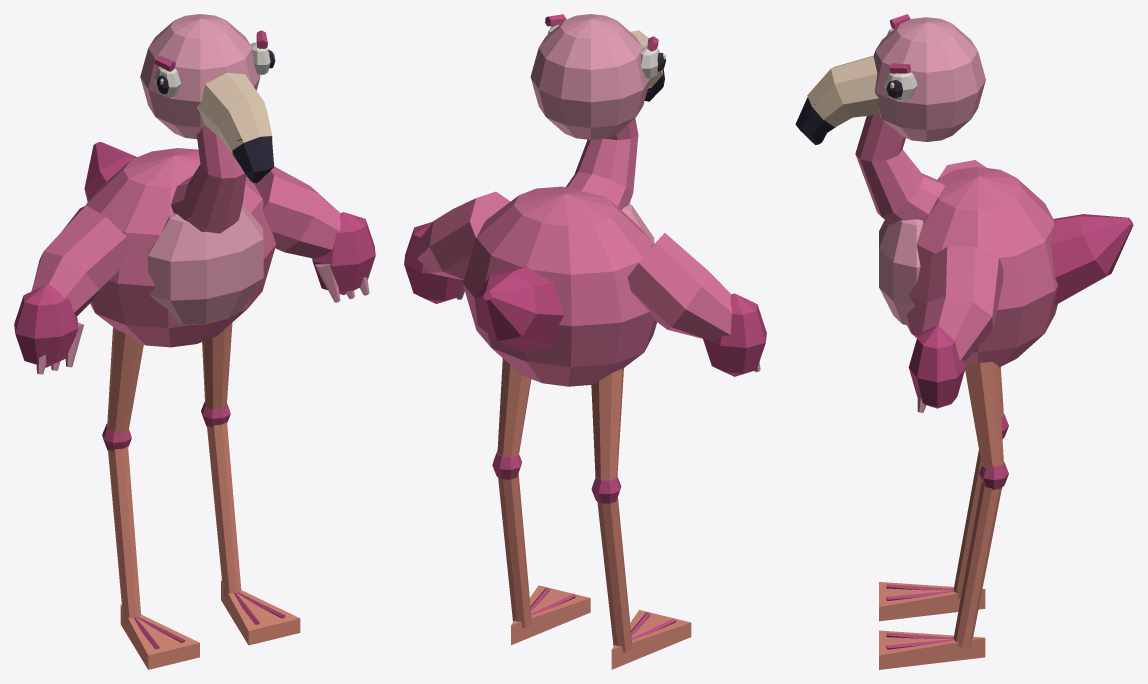
The model's file is flamingo-fighter.glb.
The picture shows the model from 3 angles, left to right: view 1: azimuth 30°, elevation 25°; view 2: azimuth 150°, elevation 25°; view 3: azimuth 270°, elevation 25°; orthographic projection.
Parts seen in each view (by area): view 1: body, head, wing_R, leg_R, wing_L, leg_L; view 2: body, head, wing_R, leg_R, leg_L, wing_L; view 3: body, head, wing_L, leg_L, leg_R.
Boxes of the visible parts, <box> form: body: <box>84,127,275,347</box>; head: <box>140,14,275,183</box>; wing_R: <box>14,205,130,374</box>; leg_R: <box>102,327,199,669</box>; wing_L: <box>246,166,375,302</box>; leg_L: <box>201,322,300,645</box>; body: <box>462,118,657,386</box>; head: <box>530,14,665,139</box>; wing_R: <box>627,233,766,376</box>; leg_R: <box>591,368,691,669</box>; leg_L: <box>492,358,590,645</box>; wing_L: <box>404,191,510,303</box>; body: <box>855,114,1133,367</box>; head: <box>795,14,985,144</box>; wing_L: <box>908,246,1003,412</box>; leg_L: <box>879,361,1008,669</box>; leg_R: <box>879,367,1008,621</box>.
Bounding box in the file's own units: 1.04 × 1.7 × 0.8527.
